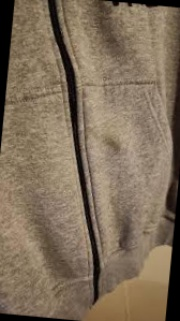oil: (105, 138, 127, 160)
